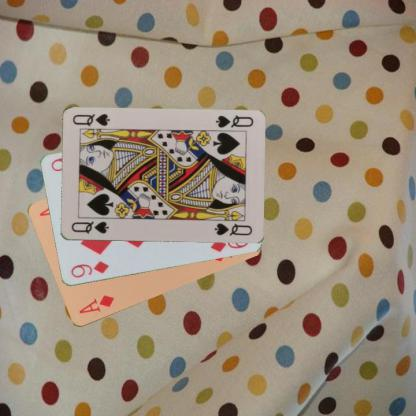9d: (69, 258, 110, 280)
Ad: (76, 292, 116, 315)
Qs: (213, 113, 254, 130), (69, 219, 110, 235)
